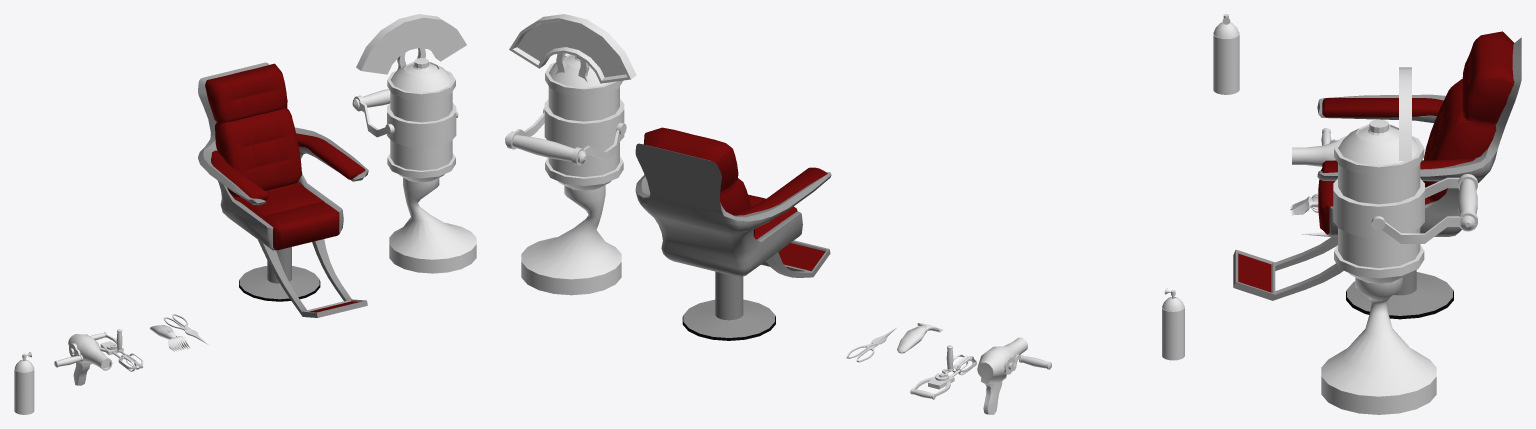
File: Props.FBX
3 renders of one model, left to right at view 1: azimuth 30°, elevation 25°; view 2: azimuth 150°, elevation 25°; view 3: azimuth 270°, elevation 25°, orthographic. The views are drawn at different scales.
Visible parts, largest first — view 1: Box001, Cylinder001, Cylinder007, Cylinder009, Object, Beater, Box008; view 2: Box001, Cylinder001, Object, Cylinder007, Cylinder009, Beater; view 3: Cylinder001, Box001, Object, Cylinder009, Cylinder007, Box008.
Boxes of the visible parts, bbox=[...] form: Box001: bbox=[198, 62, 368, 317]; Cylinder001: bbox=[356, 14, 476, 273]; Cylinder007: bbox=[68, 334, 112, 385]; Cylinder009: bbox=[14, 358, 34, 414]; Object: bbox=[352, 89, 390, 137]; Beater: bbox=[106, 329, 143, 371]; Box008: bbox=[150, 325, 189, 351]; Box001: bbox=[635, 127, 831, 340]; Cylinder001: bbox=[509, 14, 636, 295]; Object: bbox=[505, 112, 619, 165]; Cylinder007: bbox=[977, 337, 1027, 414]; Cylinder009: bbox=[1162, 296, 1184, 360]; Beater: bbox=[935, 345, 976, 380]; Cylinder001: bbox=[1321, 67, 1436, 414]; Box001: bbox=[1233, 31, 1521, 319]; Object: bbox=[1382, 174, 1477, 243]; Cylinder009: bbox=[1213, 22, 1239, 94]; Cylinder007: bbox=[1292, 140, 1338, 166]; Box008: bbox=[1290, 196, 1318, 215].
Size of the model in its own units: 197 by 98.97 by 77.27.
